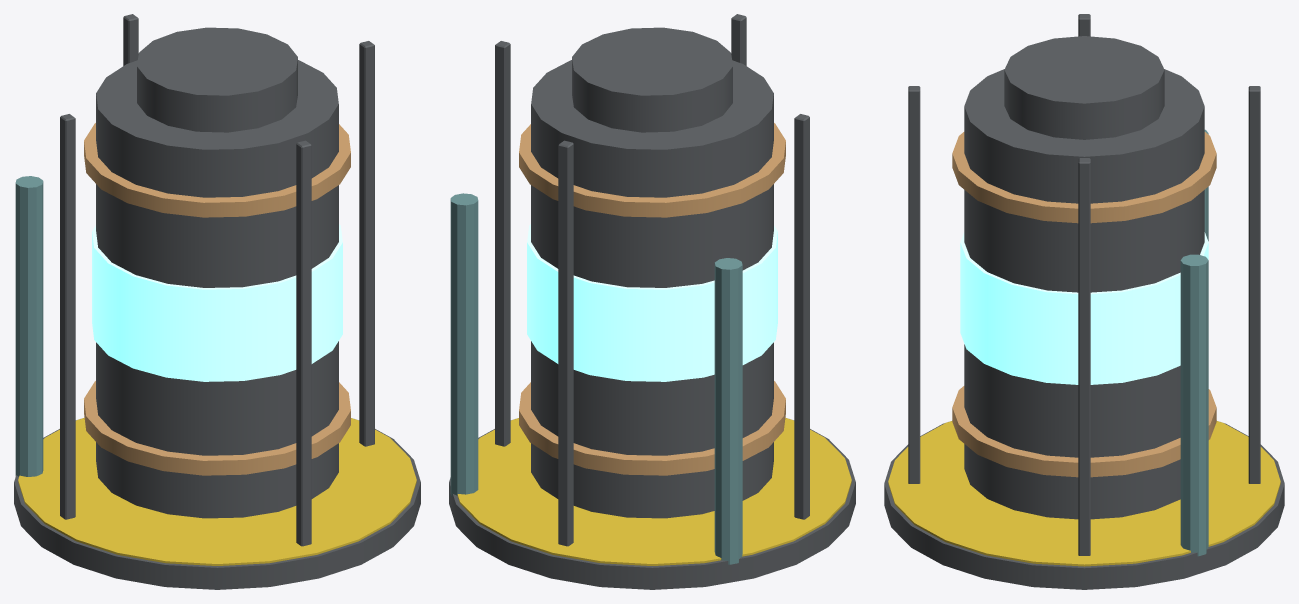
File: reactor_core.glb
3 renders of one model, left to right at view 1: azimuth 30°, elevation 25°; view 2: azimuth 150°, elevation 25°; view 3: azimuth 270°, elevation 25°, orthographic.
Visible parts, largest first — view 1: reactor_core; view 2: reactor_core; view 3: reactor_core.
Part boxes in pixels (x1,y1,x2,y2): reactor_core: (14, 14, 420, 589); reactor_core: (449, 14, 855, 589); reactor_core: (884, 14, 1284, 589).
Size of the model in its own units: 2 by 2.4 by 2.
